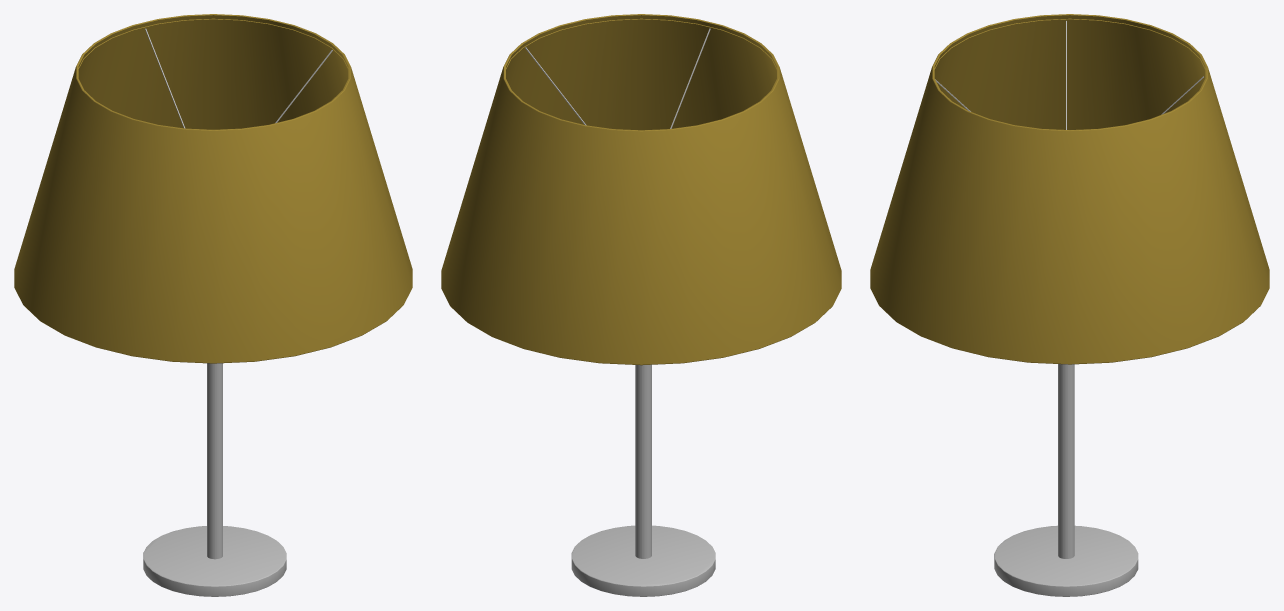
The model's file is Lamp.fbx.
3 views of the same model, side by side, from view 1: azimuth 30°, elevation 25°; view 2: azimuth 150°, elevation 25°; view 3: azimuth 270°, elevation 25° (orthographic).
Visible parts, largest first — view 1: Lamp; view 2: Lamp; view 3: Lamp.
Part boxes in pixels (x1,y1,x2,y2): Lamp: (14, 14, 412, 596); Lamp: (441, 14, 841, 596); Lamp: (870, 14, 1269, 596).
Bounding box in the file's own units: 46.91 × 64.02 × 46.65.
